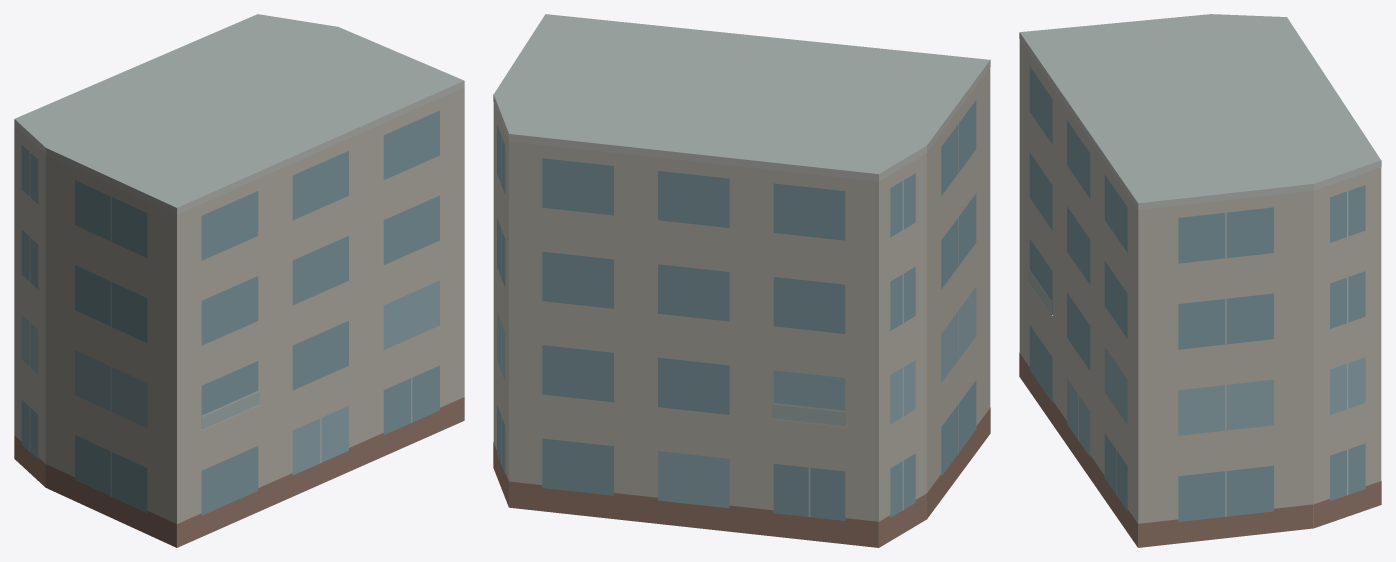
File: residential-5ffb993f-4dc3-46d7-8a2d-9241f489aae9.glb
3 views of the same model, side by side, from view 1: azimuth 30°, elevation 25°; view 2: azimuth 150°, elevation 25°; view 3: azimuth 270°, elevation 25° (orthographic). The views are drawn at different scales.
Parts seen in each view (by area): view 1: residential-5ffb993f-4dc3-46d7-8a2d-9241f489aae9.tmp; view 2: residential-5ffb993f-4dc3-46d7-8a2d-9241f489aae9.tmp; view 3: residential-5ffb993f-4dc3-46d7-8a2d-9241f489aae9.tmp.
Boxes of the visible parts, left/top/right/bottom form: residential-5ffb993f-4dc3-46d7-8a2d-9241f489aae9.tmp: left=14, top=14, right=464, bottom=547; residential-5ffb993f-4dc3-46d7-8a2d-9241f489aae9.tmp: left=493, top=14, right=990, bottom=547; residential-5ffb993f-4dc3-46d7-8a2d-9241f489aae9.tmp: left=1019, top=14, right=1381, bottom=547.
Size of the model in its own units: 14.39 by 12.2 by 11.62.
